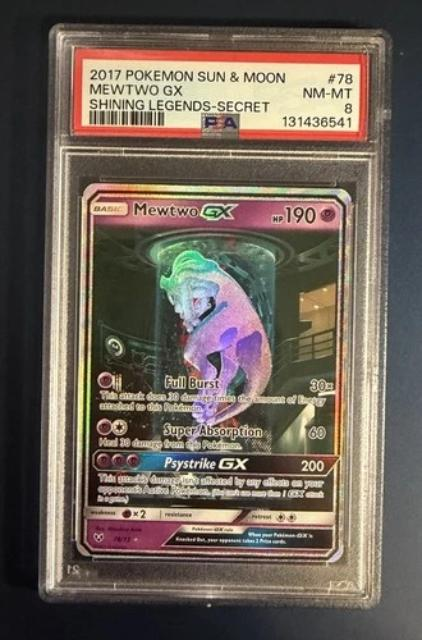Card: (71, 181, 359, 567)
Name: (128, 197, 244, 223)
